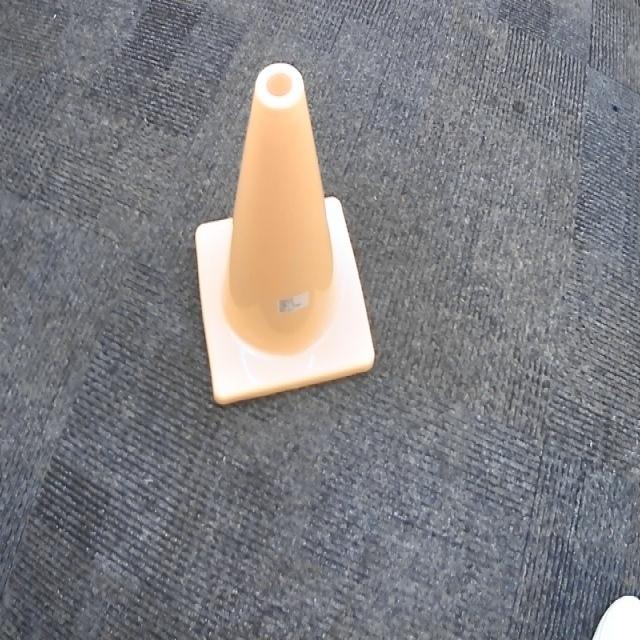cone: (180, 46, 392, 407)
